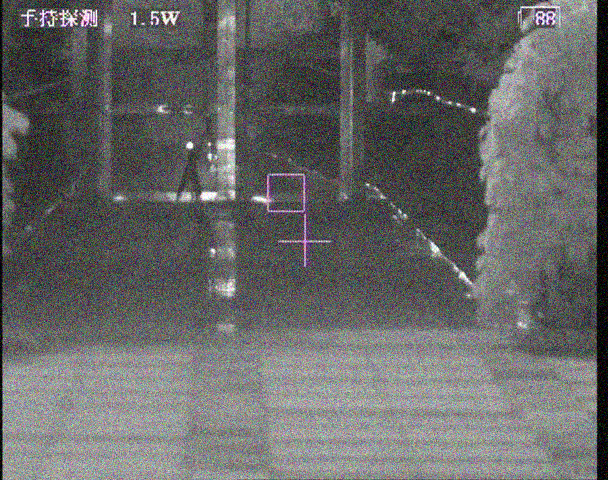my: (184, 140, 195, 151)
